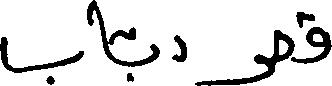X: (0, 32, 82, 85), (208, 49, 271, 85), (308, 9, 331, 67), (273, 25, 292, 77), (95, 0, 109, 63), (172, 30, 186, 66), (150, 39, 157, 67)
